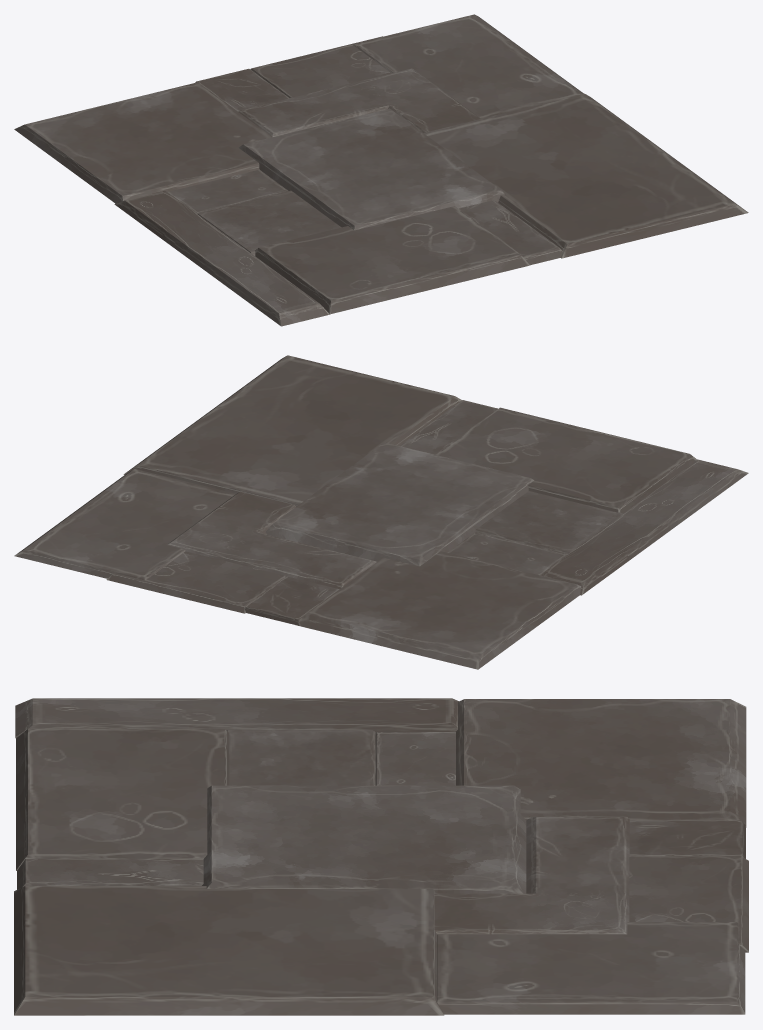
The model's file is Stone_Floor_Var2.fbx.
3 views of the same model, one above another, from view 1: azimuth 30°, elevation 25°; view 2: azimuth 150°, elevation 25°; view 3: azimuth 270°, elevation 25° (orthographic). The views are drawn at different scales.
Visible parts, largest first — view 1: StoneTile_Row1_Col3__2_; view 2: StoneTile_Row1_Col3__2_; view 3: StoneTile_Row1_Col3__2_.
Part boxes in pixels (x1,y1,x2,y2): StoneTile_Row1_Col3__2_: (14,14,748,326); StoneTile_Row1_Col3__2_: (14,355,748,669); StoneTile_Row1_Col3__2_: (14,698,748,1015).
Bounding box in the file's own units: 2.02 × 0.0508 × 2.03.
